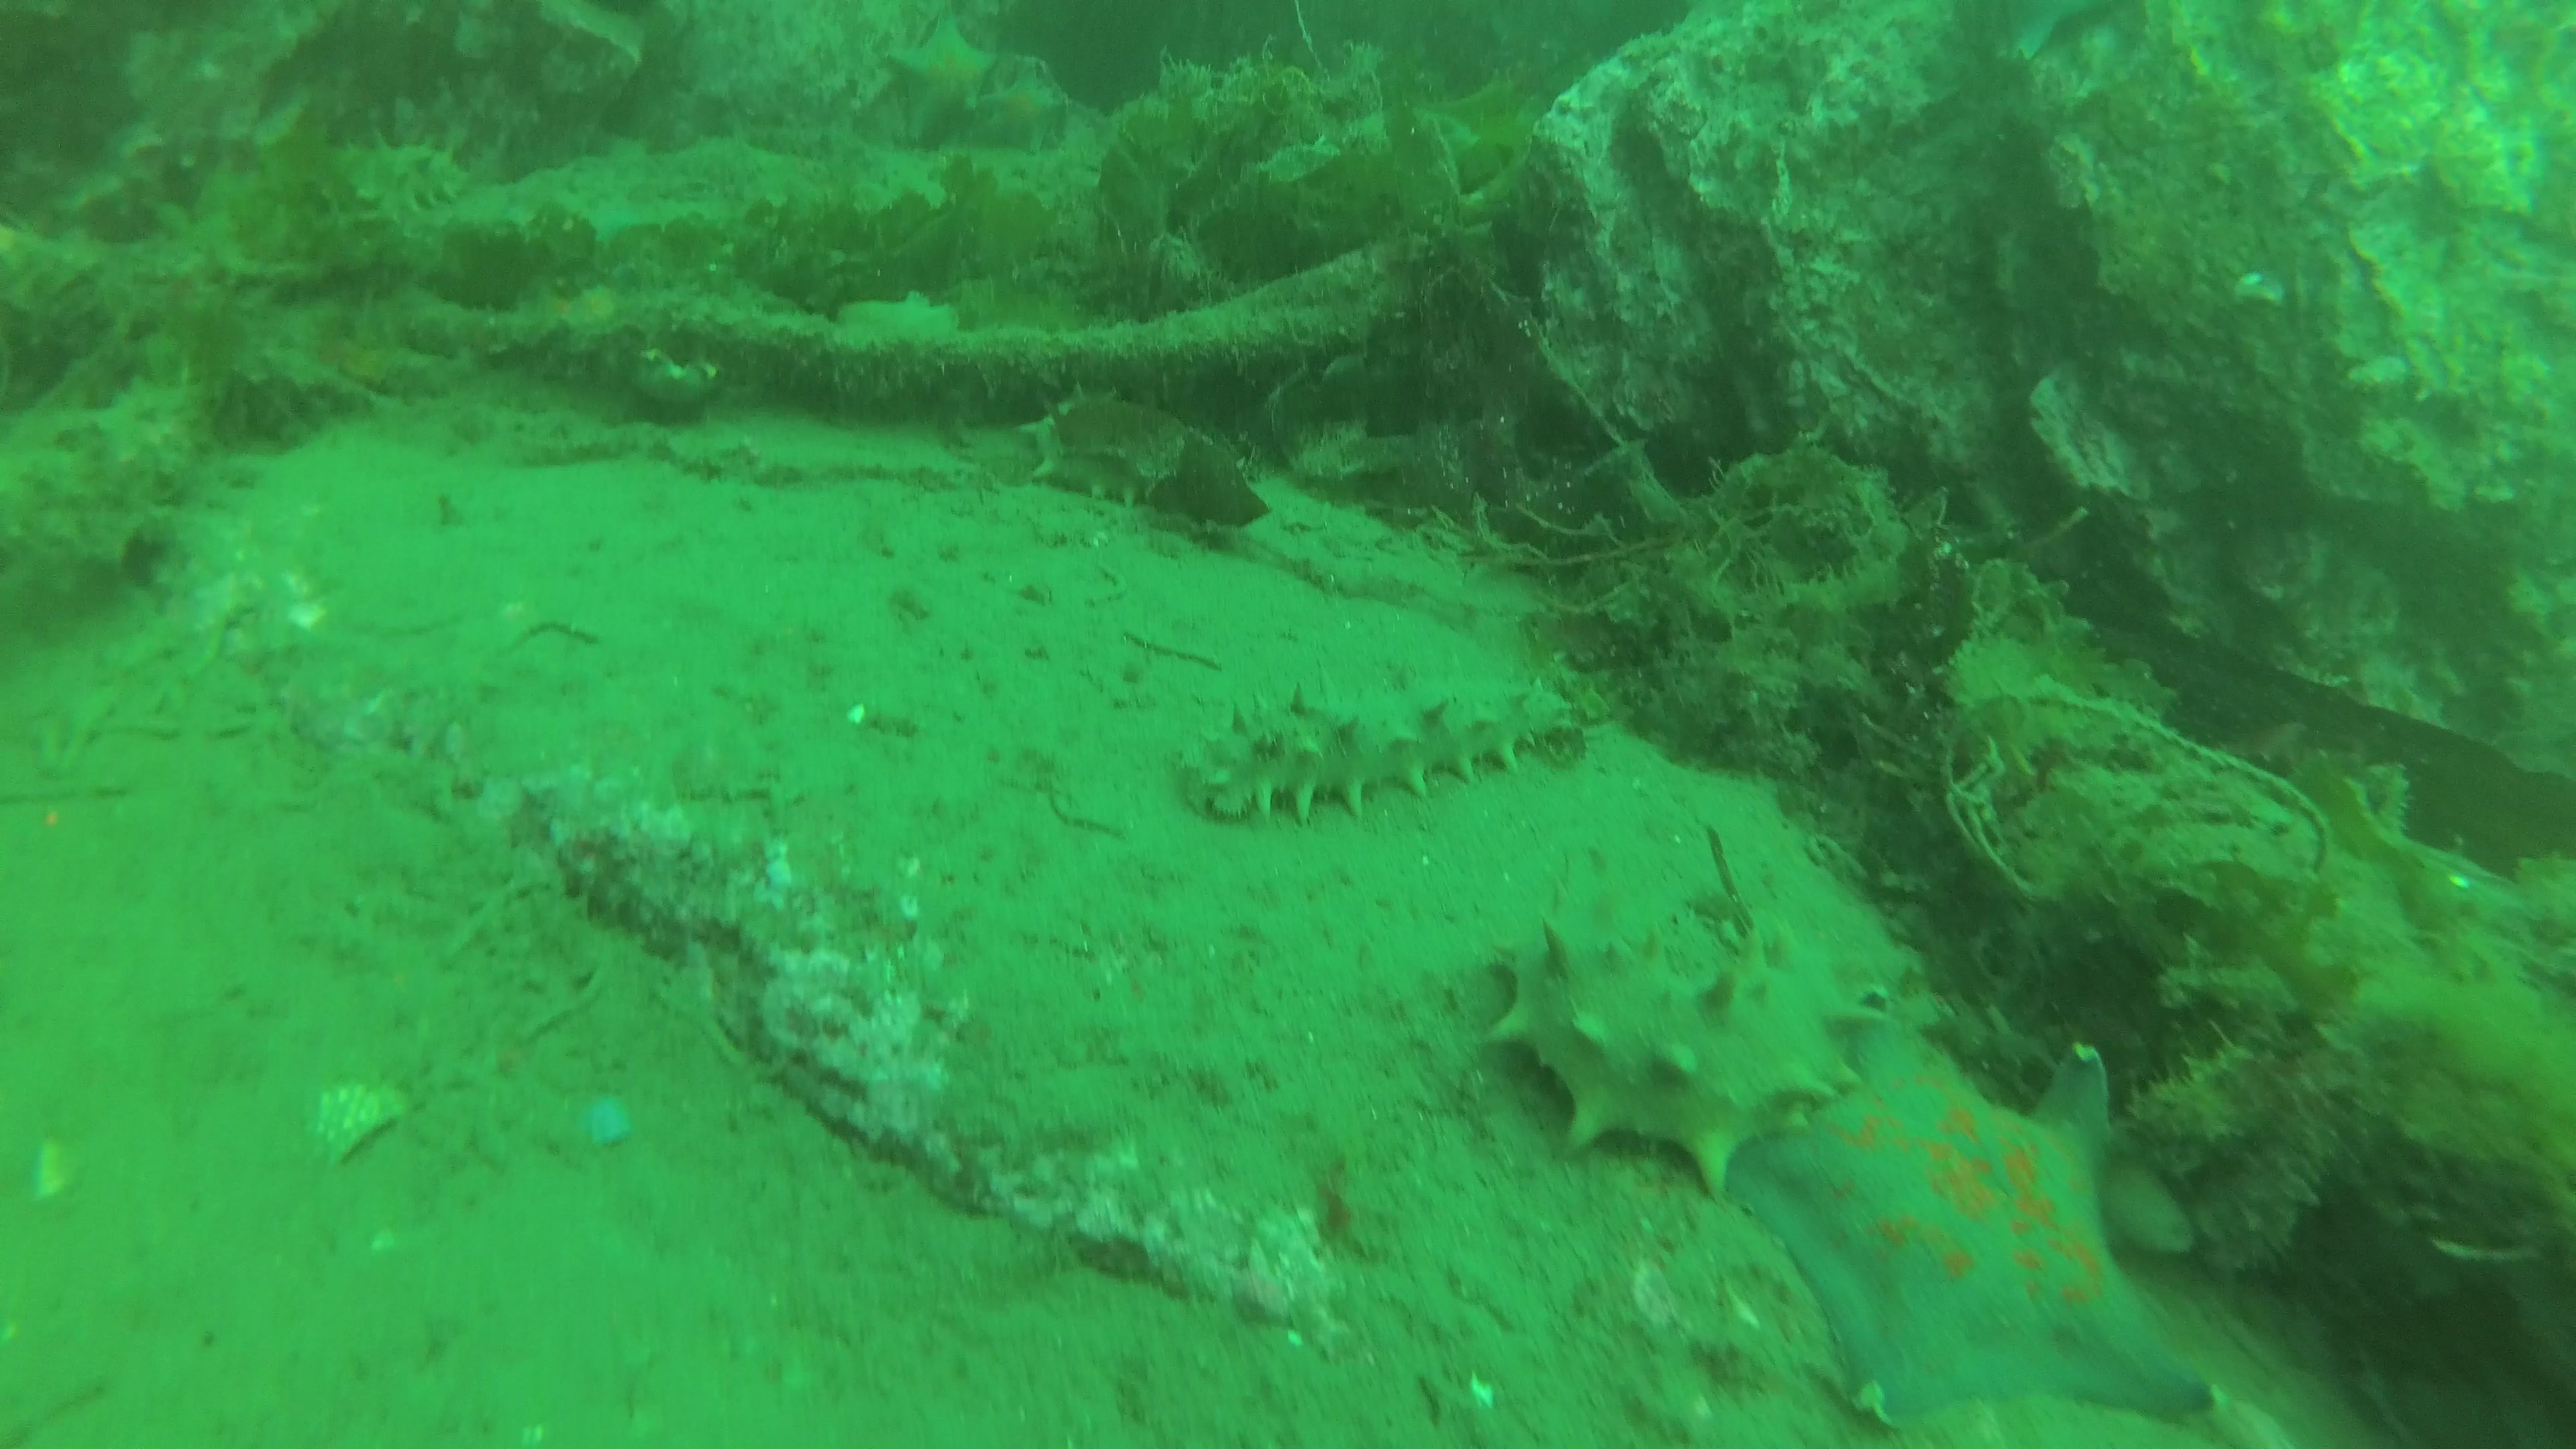echinus: (336, 127, 474, 221)
holothurian: (1484, 837, 1890, 1200), (1191, 669, 1578, 819), (1016, 380, 1171, 511)
starfish: (1706, 987, 2226, 1426), (885, 4, 1001, 149), (971, 57, 1069, 154), (626, 345, 724, 410)
